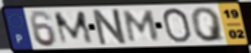6: (28, 9, 59, 48)
M: (52, 10, 97, 46), (123, 10, 162, 44)
N: (91, 7, 130, 47)
O: (161, 7, 194, 44)
Q: (189, 6, 227, 44)
